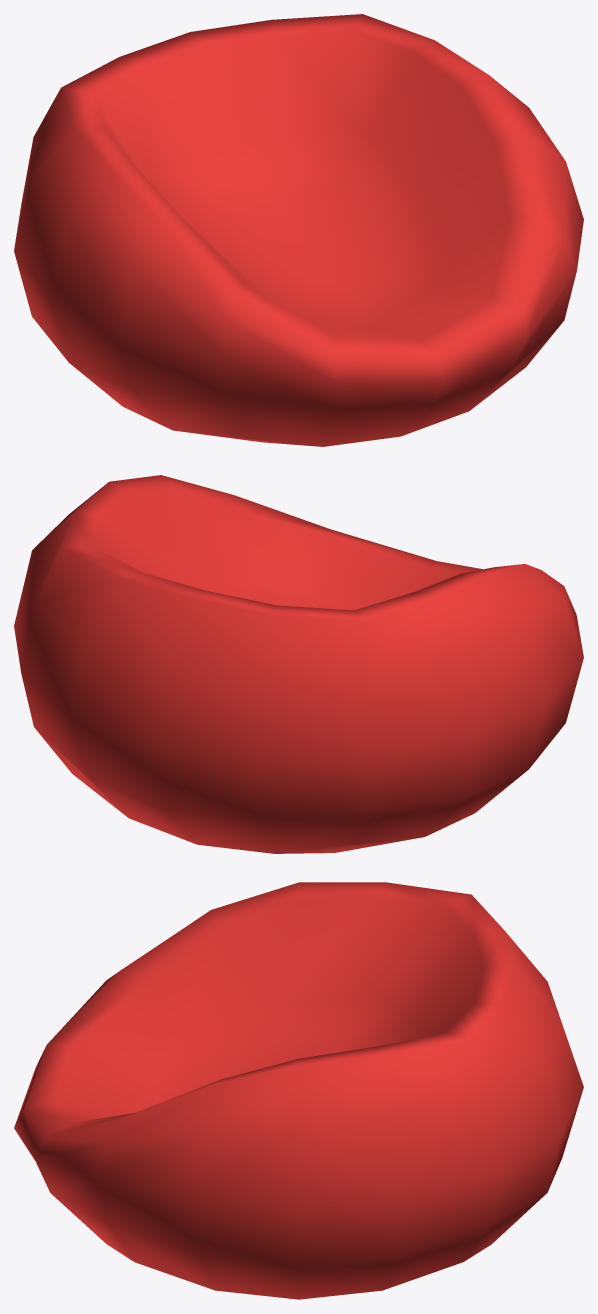
Rendered from chair_009.fbx.
3 renders of one model, top to bottom at view 1: azimuth 30°, elevation 25°; view 2: azimuth 150°, elevation 25°; view 3: azimuth 270°, elevation 25°, orthographic.
Visible parts, largest first — view 1: chair_009; view 2: chair_009; view 3: chair_009.
Part boxes in pixels (box(x1,y1,x2,y2)): chair_009: box(14, 14, 583, 446); chair_009: box(14, 475, 583, 853); chair_009: box(14, 882, 583, 1299).
Bounding box in the file's own units: 126 × 126 × 68.84.
